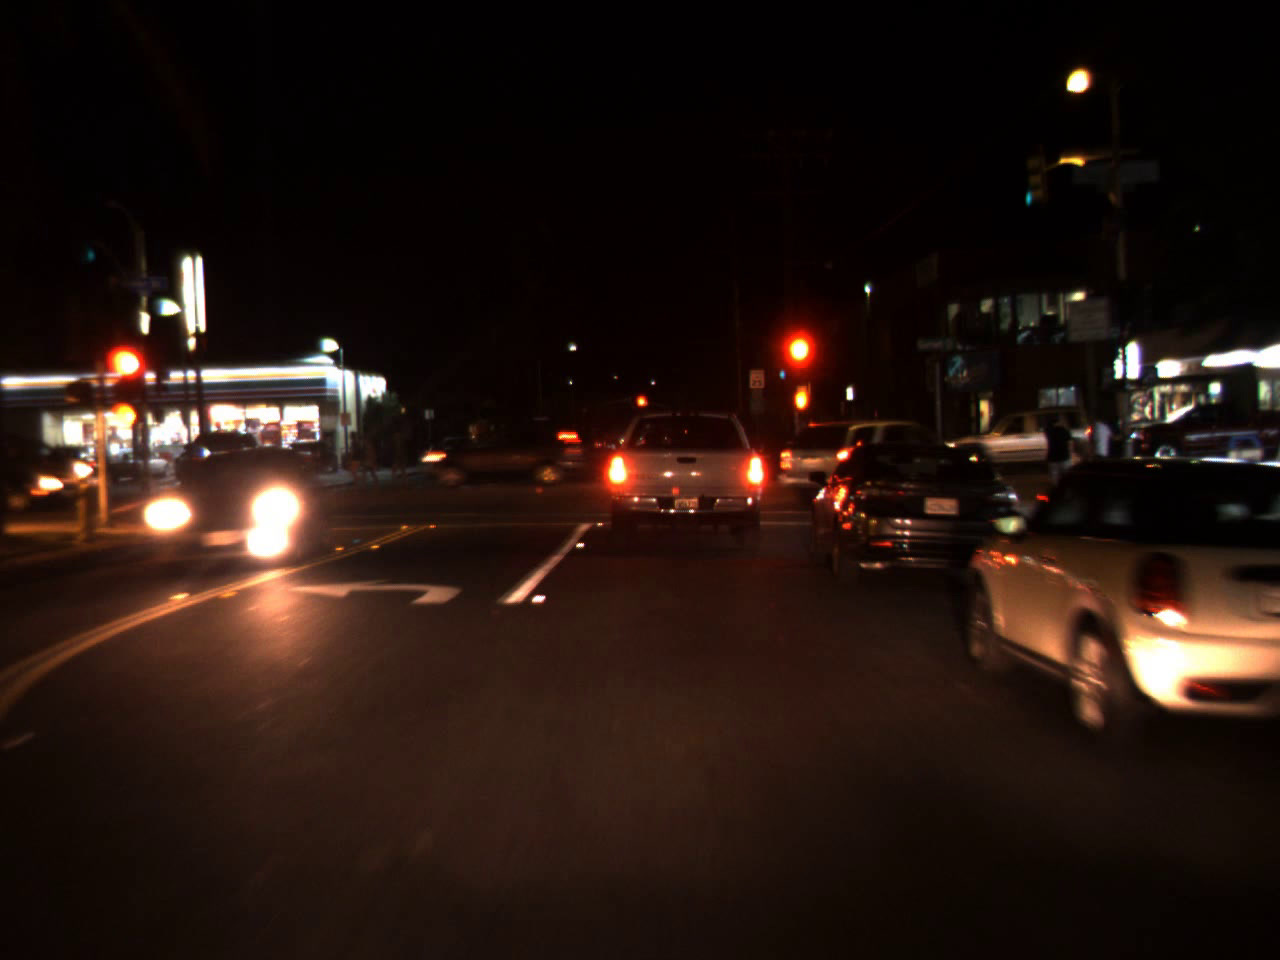stop: (107, 341, 150, 419), (777, 332, 811, 388), (635, 393, 648, 419)
